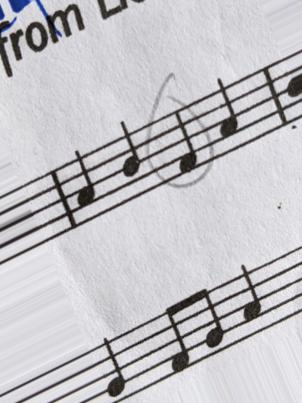note: (170, 99, 205, 182), (114, 118, 148, 203), (208, 77, 242, 157), (235, 261, 266, 344), (68, 152, 101, 224), (100, 327, 131, 402)
